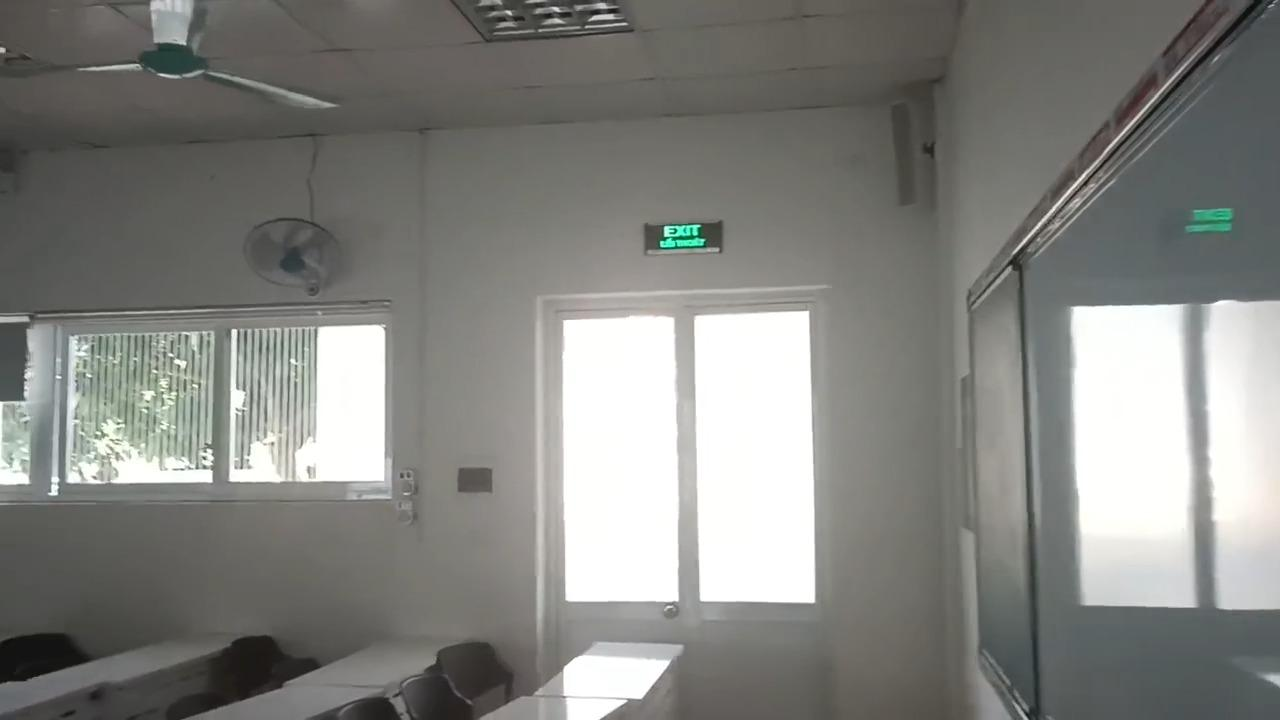board: (961, 18, 1279, 719)
chair: (440, 643, 509, 714), (230, 636, 287, 700), (397, 671, 472, 719), (0, 632, 77, 675), (167, 694, 226, 717), (271, 657, 317, 686), (337, 698, 400, 718)
fan: (8, 0, 337, 107), (239, 211, 340, 298)
table: (34, 627, 251, 682), (291, 640, 453, 690), (537, 640, 678, 695), (187, 686, 382, 718), (2, 678, 97, 711), (488, 697, 621, 719)
